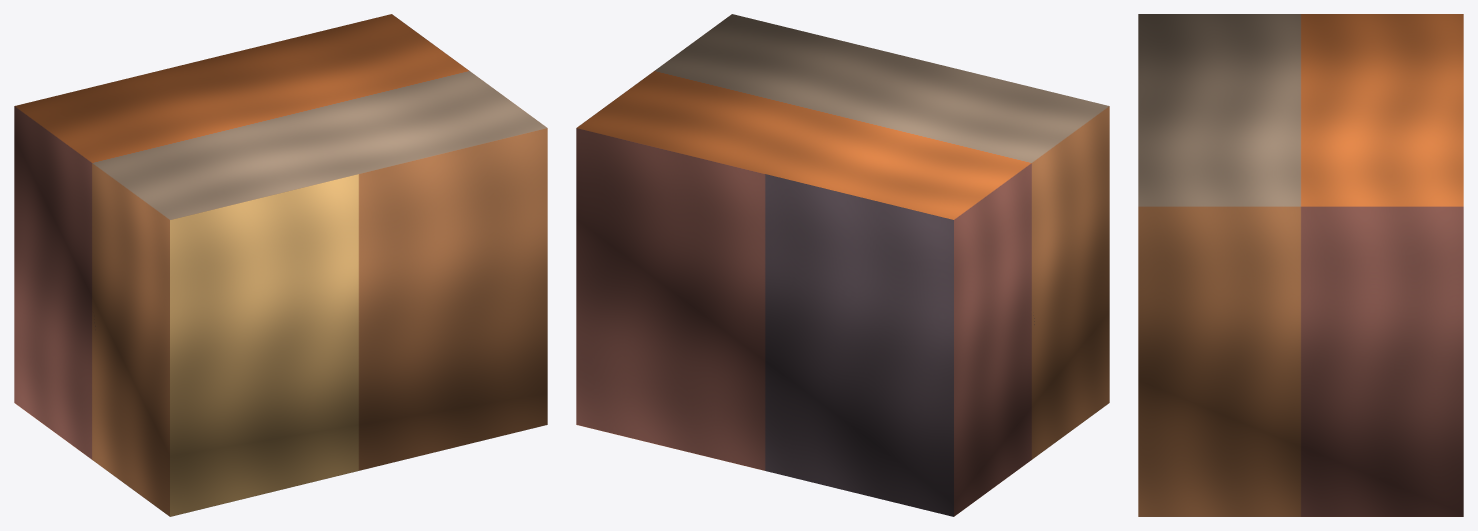
The model's file is rock_volcanic_b.glb.
3 renders of one model, left to right at view 1: azimuth 30°, elevation 25°; view 2: azimuth 150°, elevation 25°; view 3: azimuth 270°, elevation 25°, orthographic. The views are drawn at different scales.
Visible parts, largest first — view 1: col; view 2: col; view 3: col.
Boxes of the visible parts, x1,y1,x2,y2 form: col: (14, 14, 547, 516); col: (576, 14, 1109, 516); col: (1138, 14, 1463, 516).
Size of the model in its own units: 2.34 by 1.76 by 1.67.
Materials: 1 (1 with a texture image).
